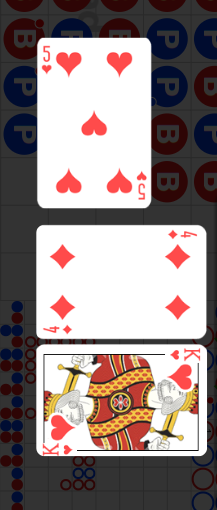5H: (135, 169, 148, 201), (41, 45, 54, 76)
KH: (41, 443, 74, 456)
